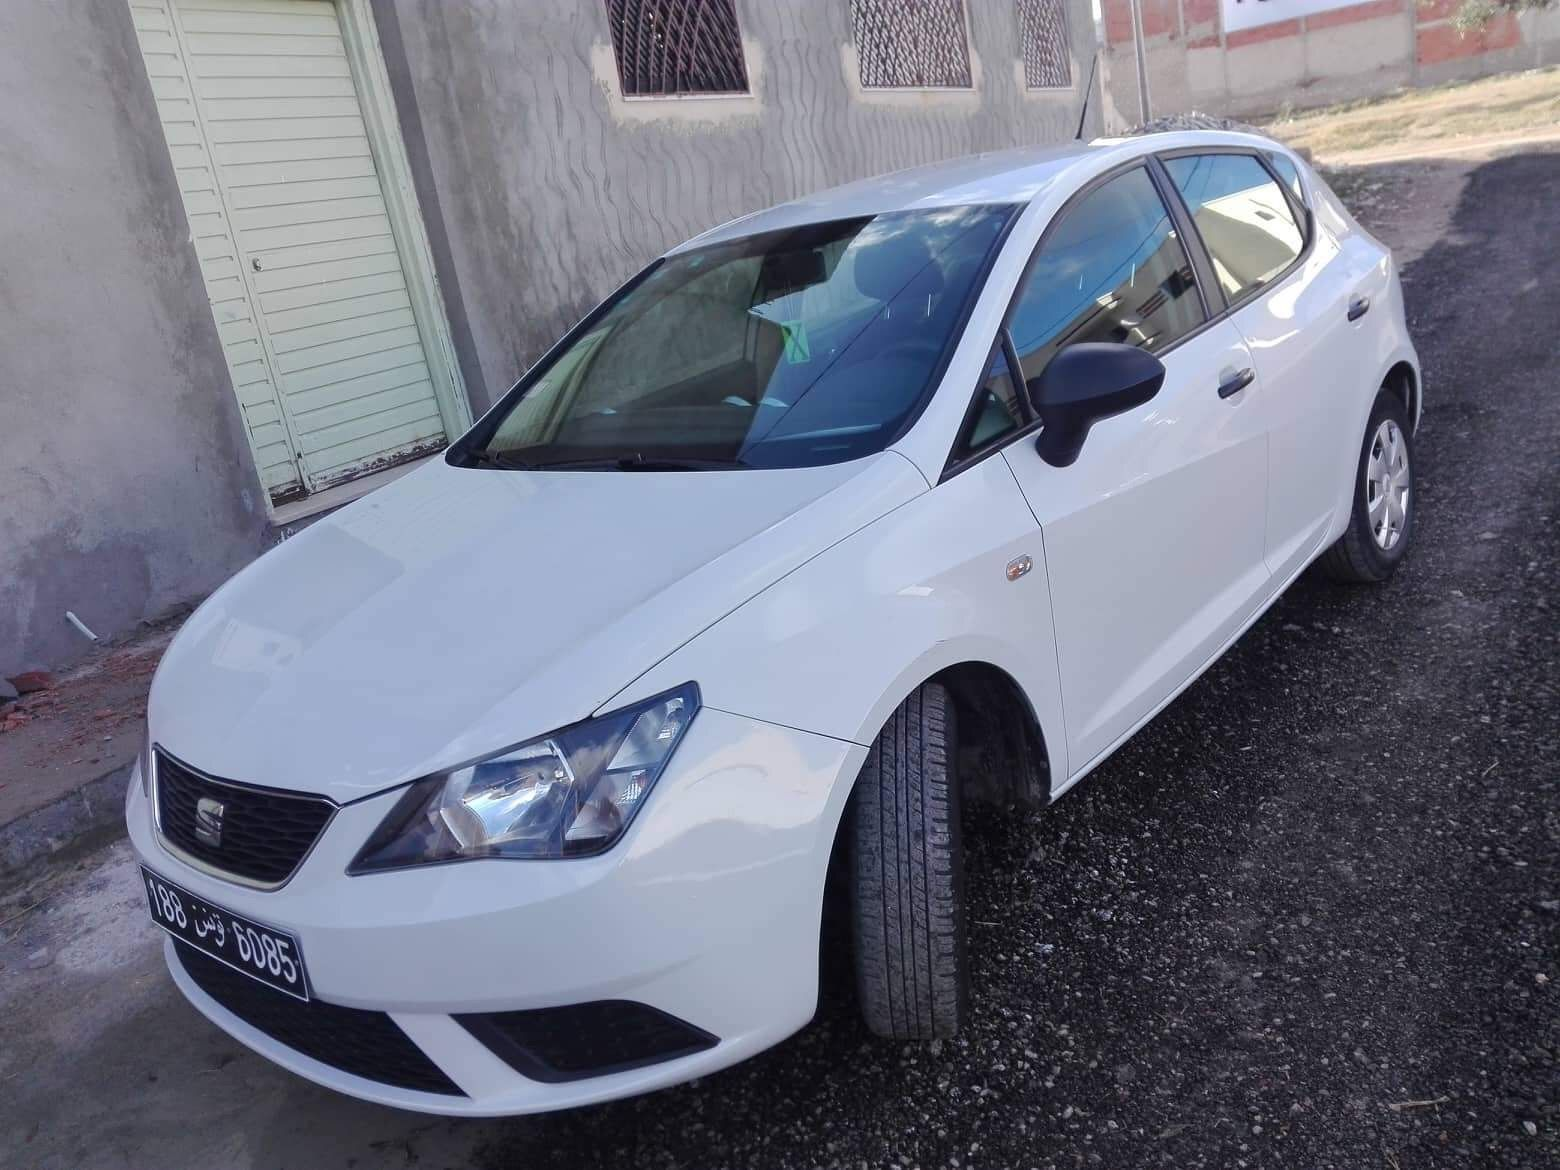LP: (132, 862, 309, 992)
